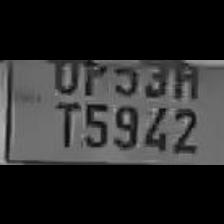2: (167, 102, 199, 154)
3: (140, 60, 168, 96)
4: (140, 100, 168, 152)
5: (78, 96, 110, 148), (109, 60, 139, 94)
9: (109, 98, 139, 148)
P: (78, 60, 108, 94)
T: (49, 94, 79, 148)
U: (47, 59, 79, 93)
